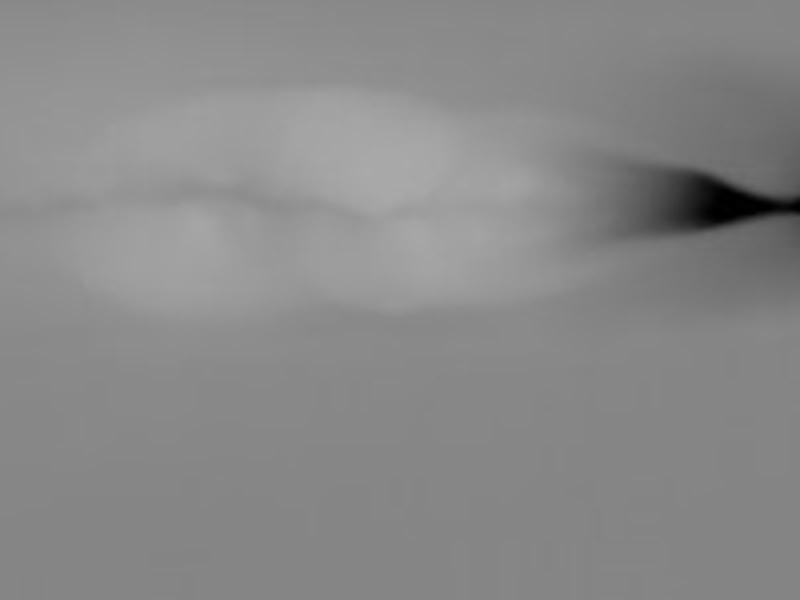defect: (656, 165, 763, 235)
